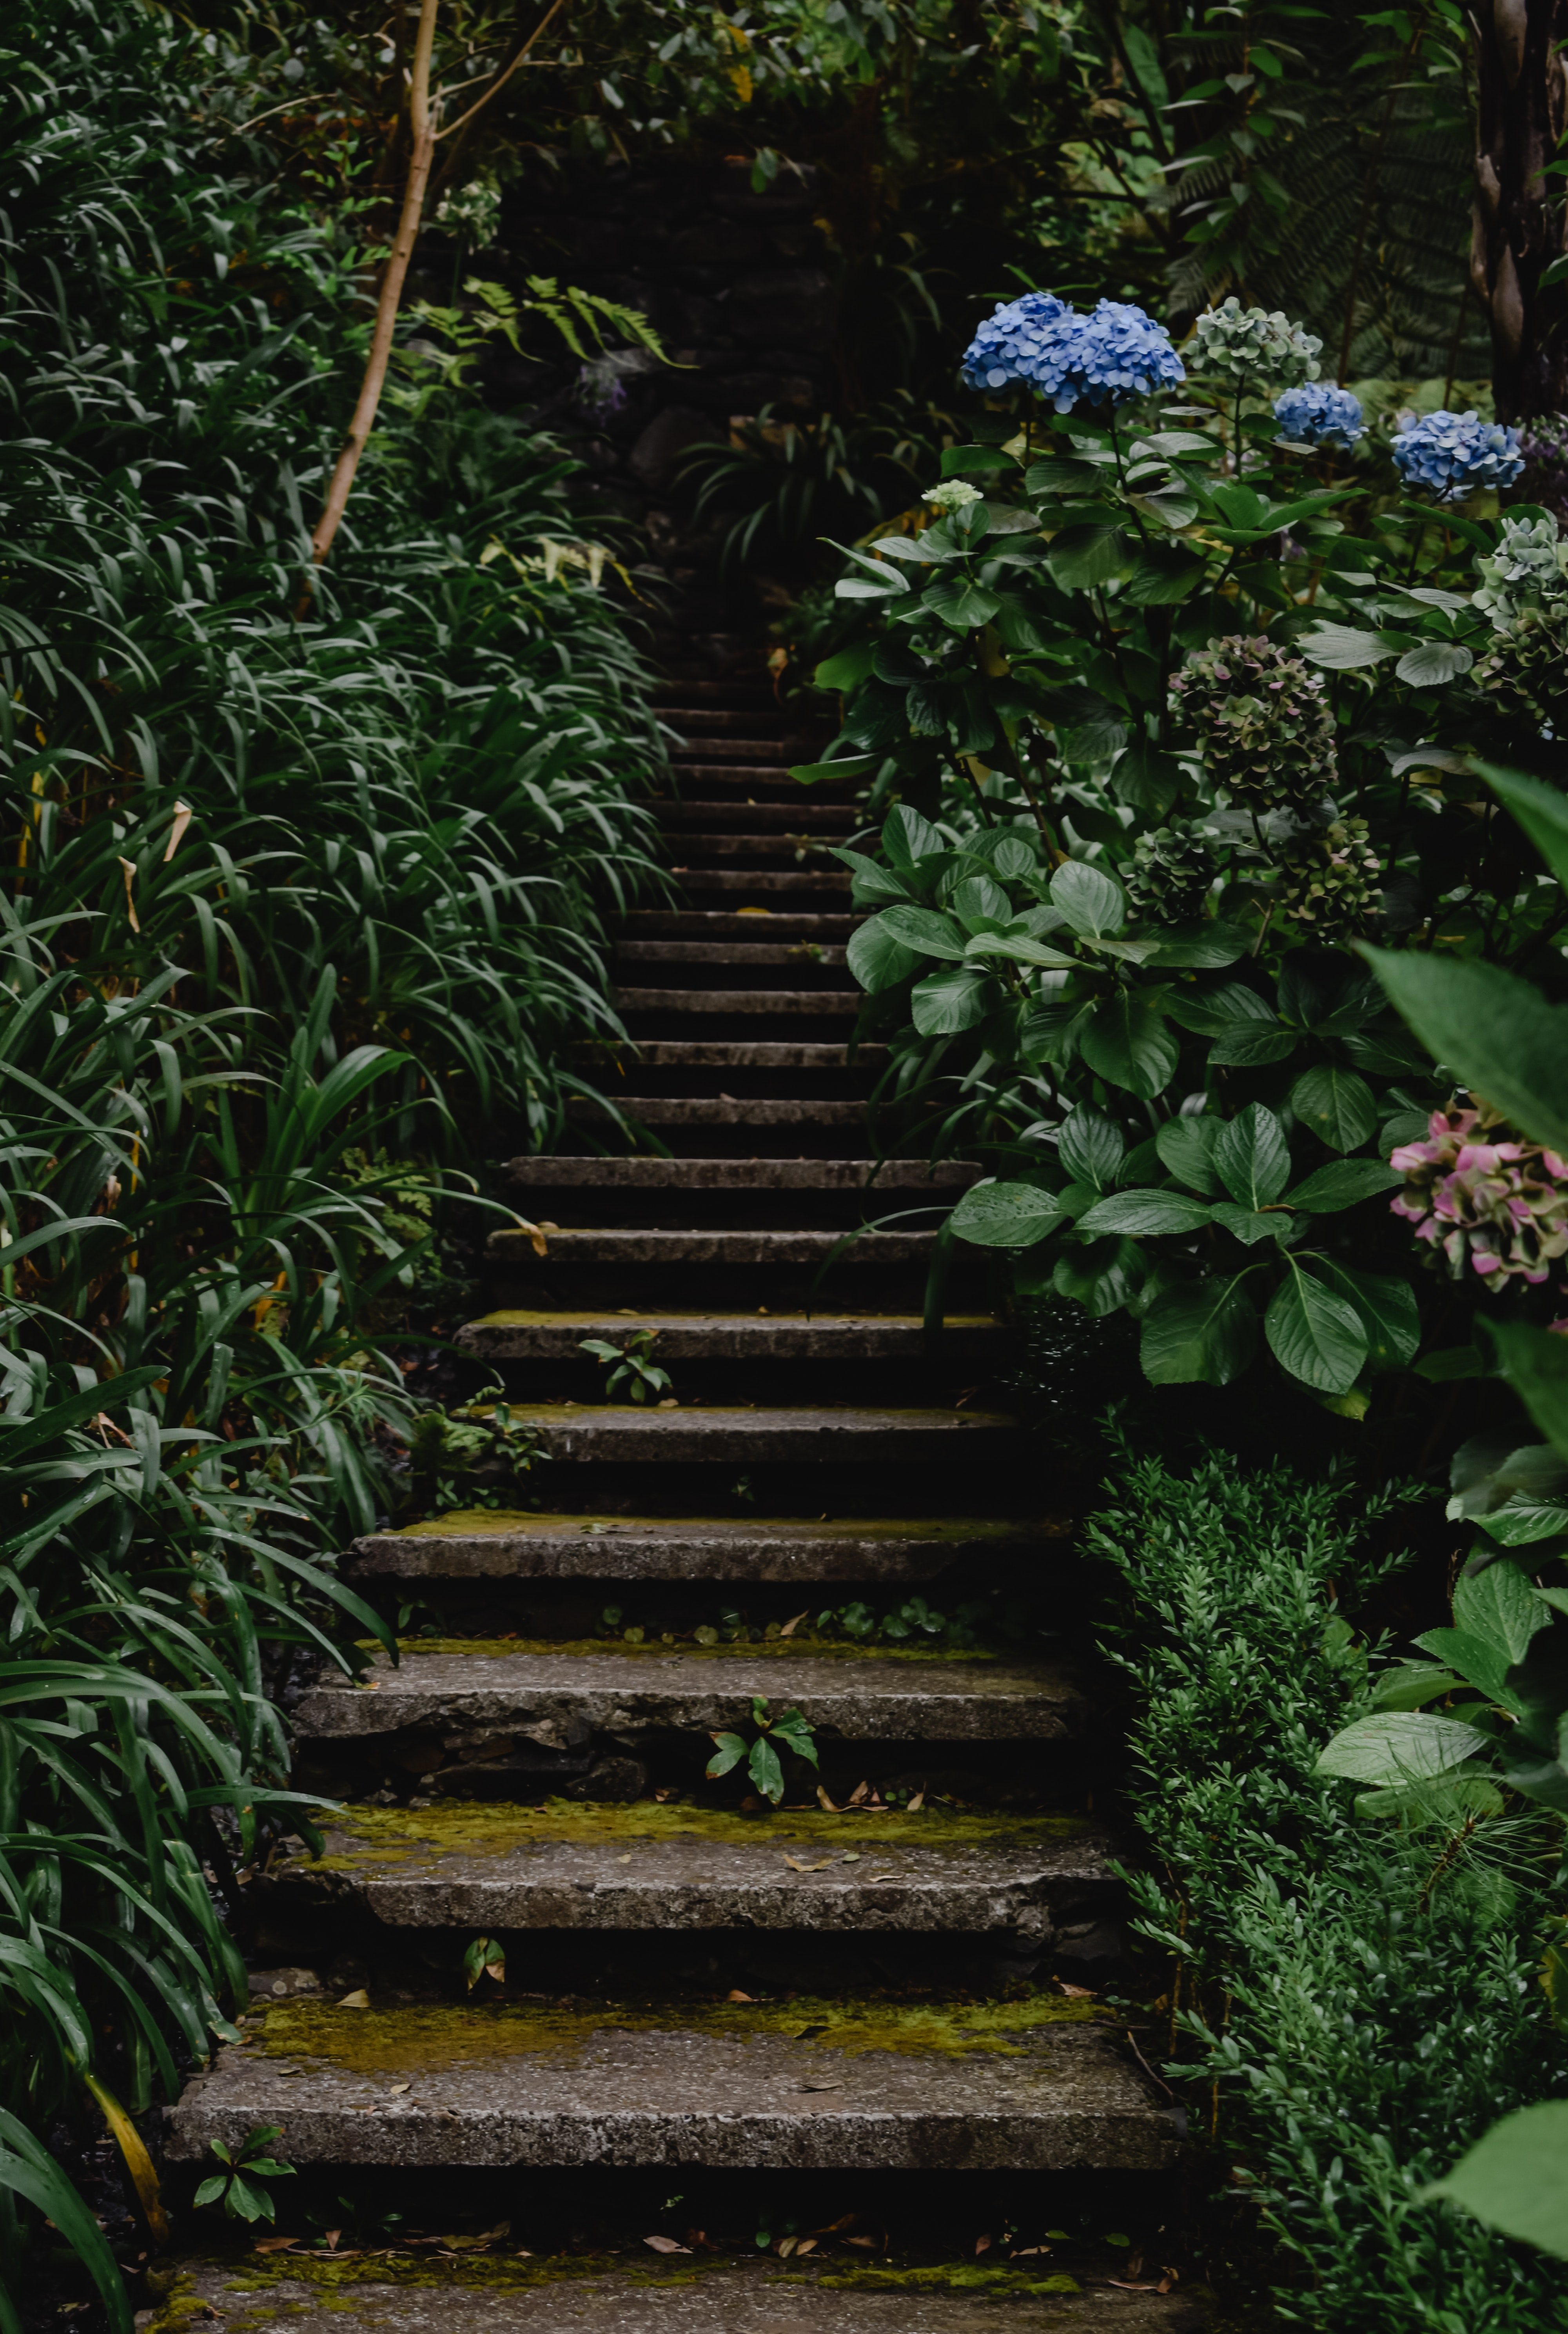upstairs: (480, 1289, 1050, 2317)
